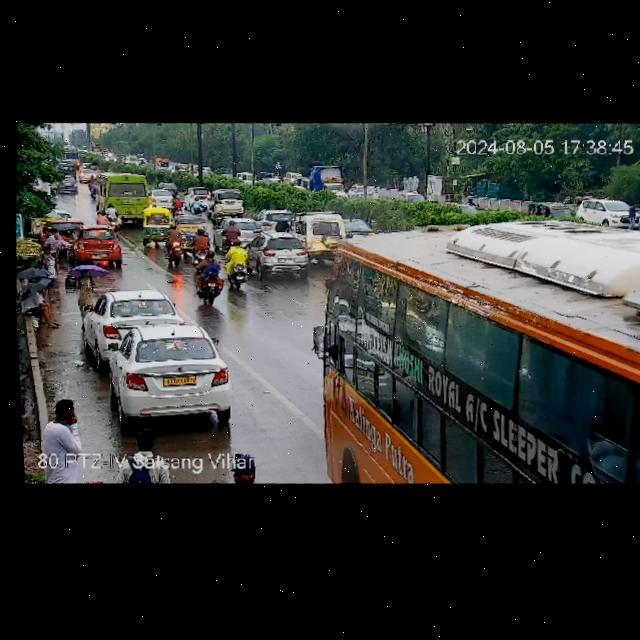bus: (318, 208, 640, 500), (91, 170, 156, 226)
car: (103, 320, 235, 425), (80, 285, 184, 352), (564, 192, 640, 235), (246, 229, 314, 277), (277, 210, 344, 256), (70, 225, 128, 275), (141, 206, 175, 244), (209, 187, 246, 218), (257, 208, 298, 232), (54, 173, 85, 195), (150, 188, 178, 208)
motorcycle: (192, 256, 231, 307), (159, 220, 188, 269), (226, 244, 253, 289), (187, 228, 214, 272), (218, 217, 246, 255), (102, 205, 125, 232), (188, 197, 207, 216), (173, 196, 187, 215)
person: (19, 265, 67, 333), (65, 260, 107, 333), (39, 397, 89, 454), (38, 226, 71, 309)
